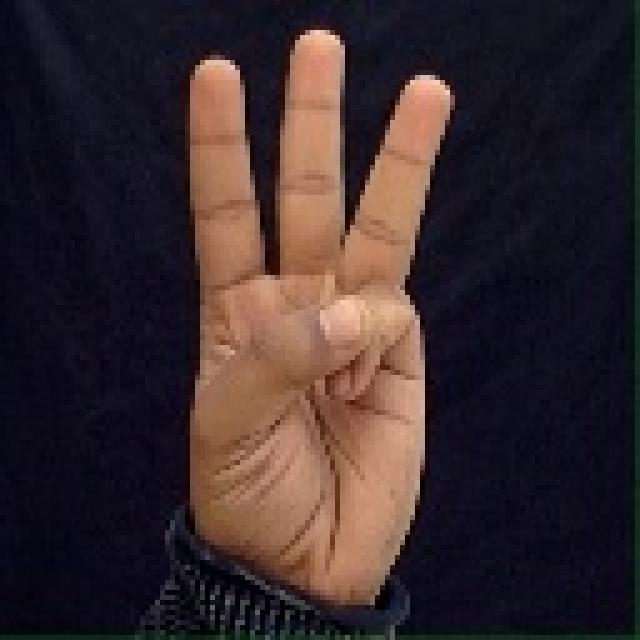Numeric-3: (182, 22, 456, 608)
